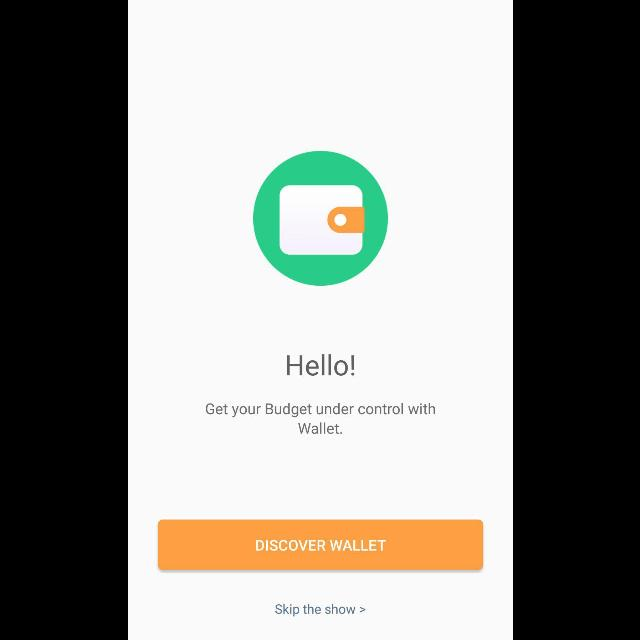icon: (359, 607, 365, 613)
image: (252, 152, 388, 286)
text: (204, 402, 434, 434), (286, 354, 354, 376), (275, 604, 355, 616)
textbutton: (158, 520, 482, 570)
